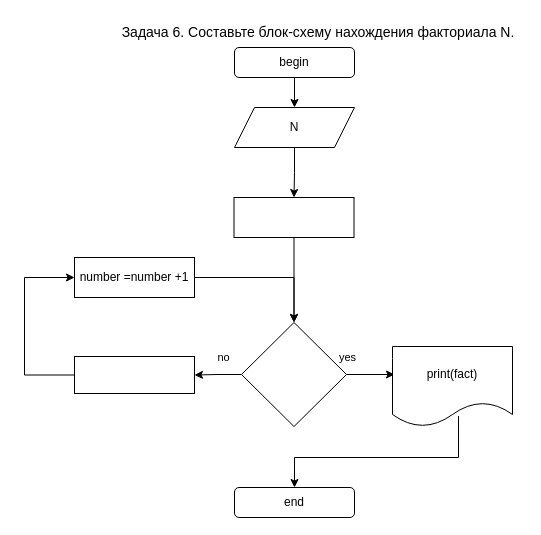
This 541x535 diagram has some shape labels left out. The shapes that lost their labels are listed below. From the top down, each one's centre as x and y in pixels, then its label:
pixel 293 217: number=1, fact =1
pixel 134 375: fact = fact * number
pixel 293 374: number > N
